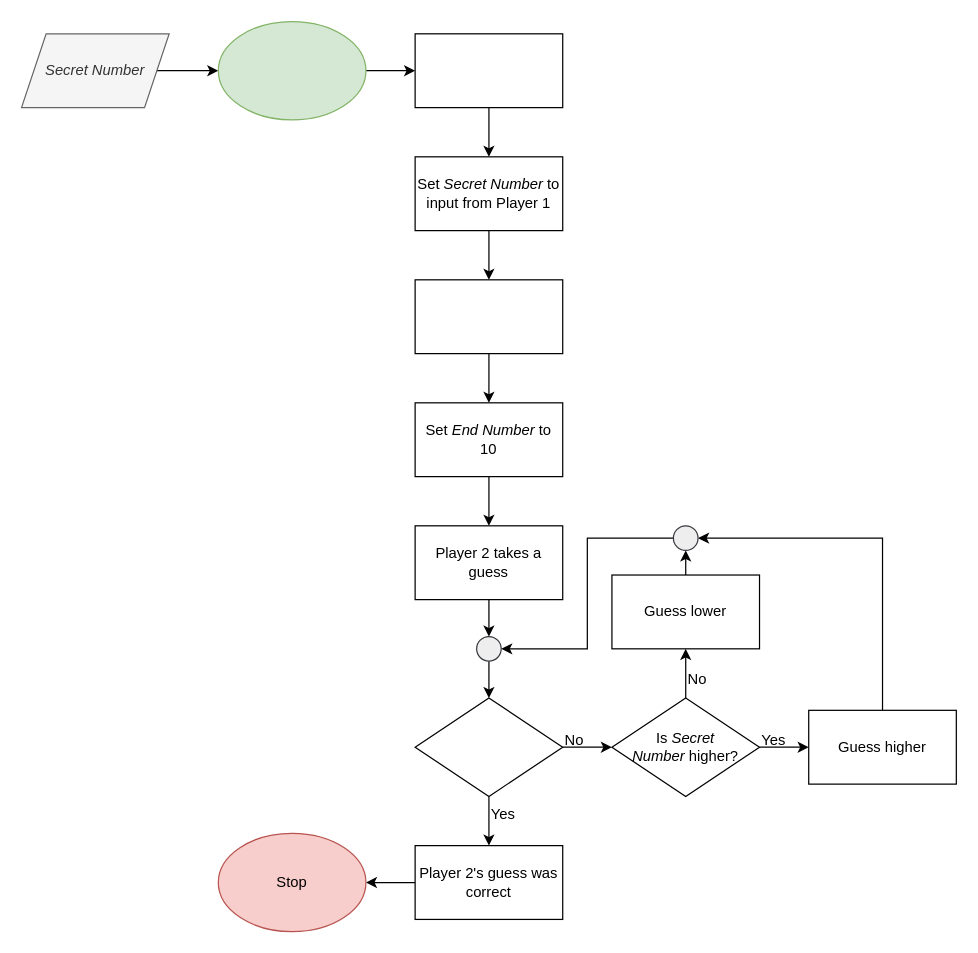
The diagram is 978 pixels wide and 953 high, and some of its shapes have lost their labels. The shapes that lost their labels are listed below. From the top down, each one's box as (x1, y1, x2, y2) in pixels, then its label:
(217, 20, 366, 120): Start
(414, 33, 563, 108): Set Player2 Guess to guess from Player 2
(414, 279, 563, 354): Set Start Number to 1
(414, 697, 563, 796): Is Player2 Guess equal to Secret Number?
